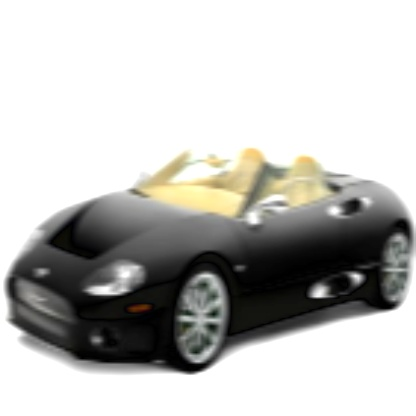Vehicle: (0, 138, 414, 373)
